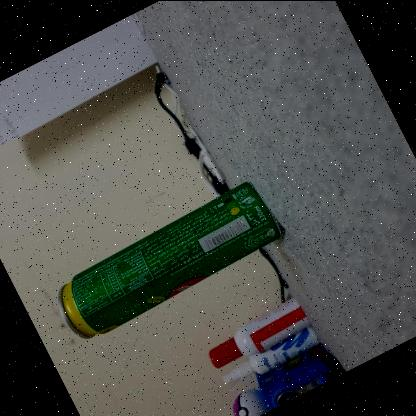Can: (60, 180, 280, 338)
